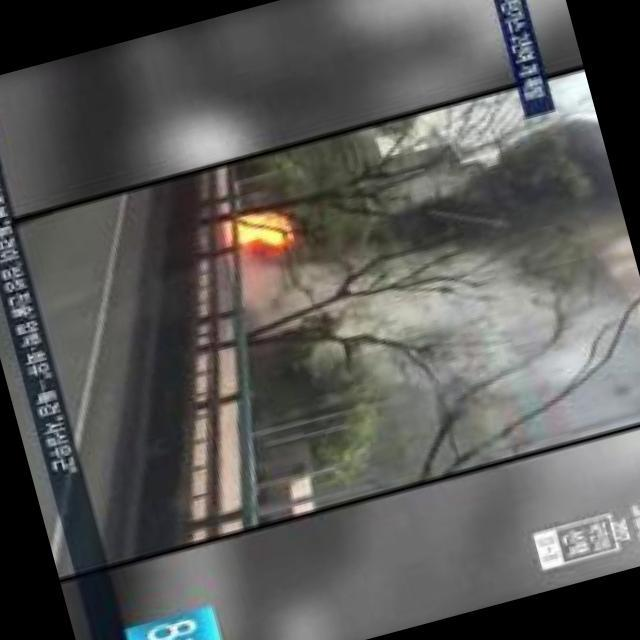Fire: (220, 196, 298, 265)
